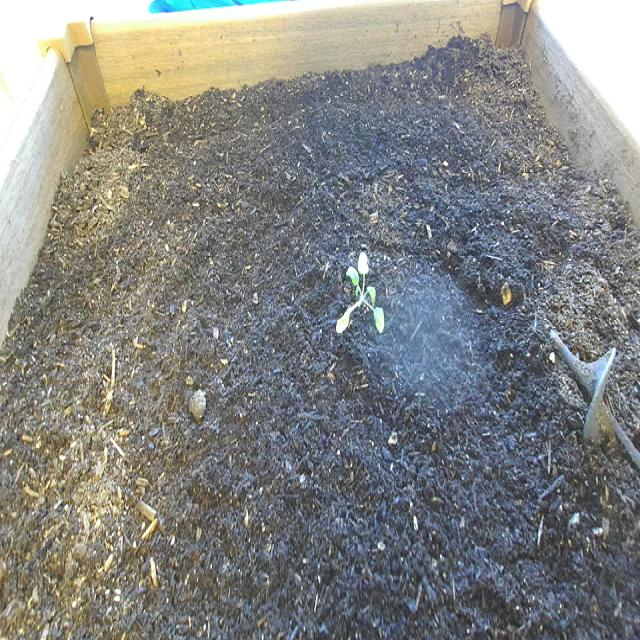Healthy: (334, 246, 388, 340)
